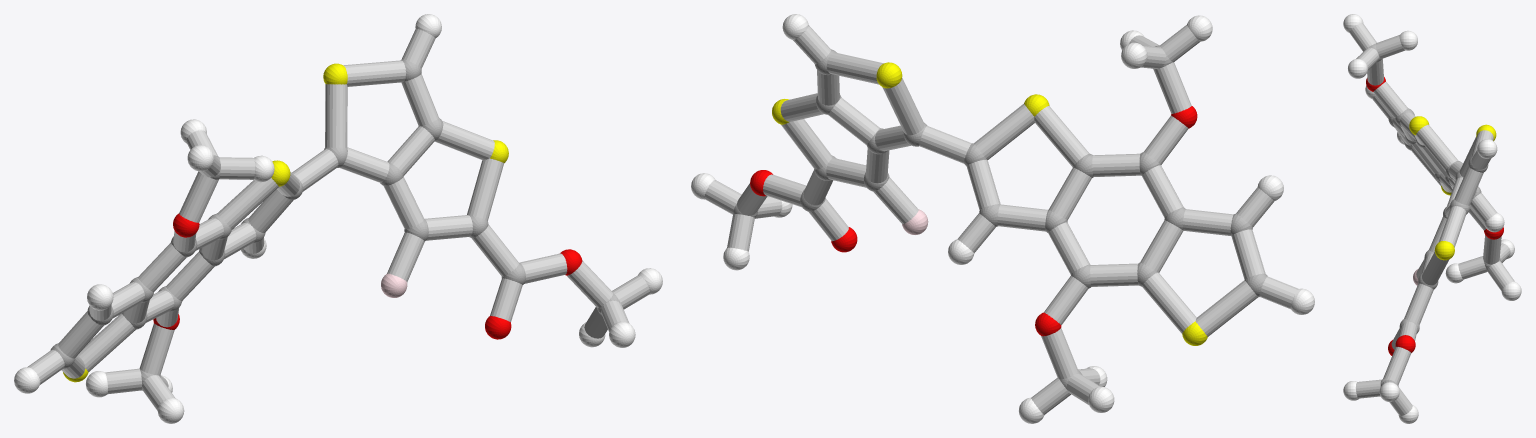
File: color.glb
3 renders of one model, left to right at view 1: azimuth 30°, elevation 25°; view 2: azimuth 150°, elevation 25°; view 3: azimuth 270°, elevation 25°, orthographic. The views are drawn at different scales.
Parts seen in each view (by area): view 1: grp15205, grp8689, grp1, grp13395, grp7241; view 2: grp15205, grp8689, grp1, grp7241, grp13395; view 3: grp15205, grp8689, grp1, grp7241, grp13395.
Part boxes in pixels (x1,y1,x2,y2): grp15205: [27, 29, 649, 410]; grp8689: [14, 14, 662, 423]; grp1: [50, 59, 620, 390]; grp13395: [153, 213, 582, 339]; grp7241: [63, 63, 508, 382]; grp15205: [704, 25, 1298, 414]; grp8689: [691, 14, 1314, 423]; grp1: [733, 45, 1267, 389]; grp7241: [772, 62, 1207, 345]; grp13395: [750, 106, 1197, 336]; grp15205: [1349, 23, 1514, 415]; grp8689: [1343, 14, 1521, 423]; grp1: [1368, 43, 1500, 386]; grp7241: [1409, 116, 1496, 260]; grp13395: [1366, 77, 1503, 355].
Bounding box in the file's own units: 16.48 × 8.61 × 5.31.
